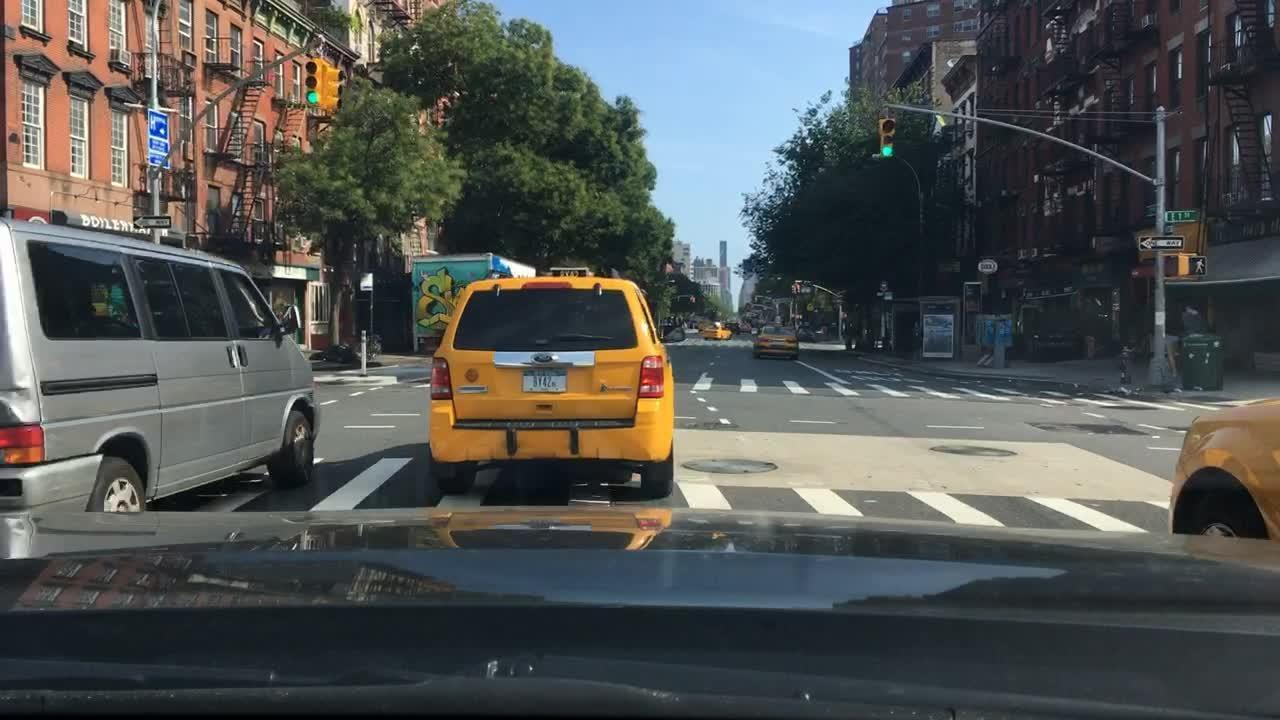ford: (532, 350, 563, 365)
